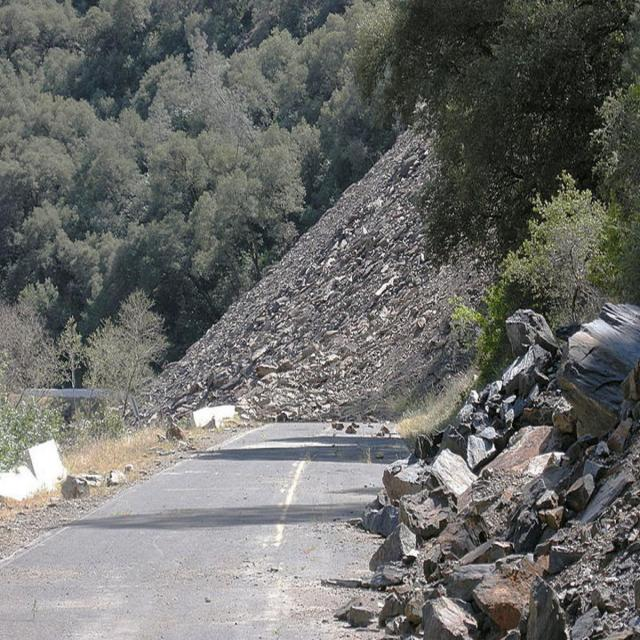landSliding: (141, 281, 499, 521)
